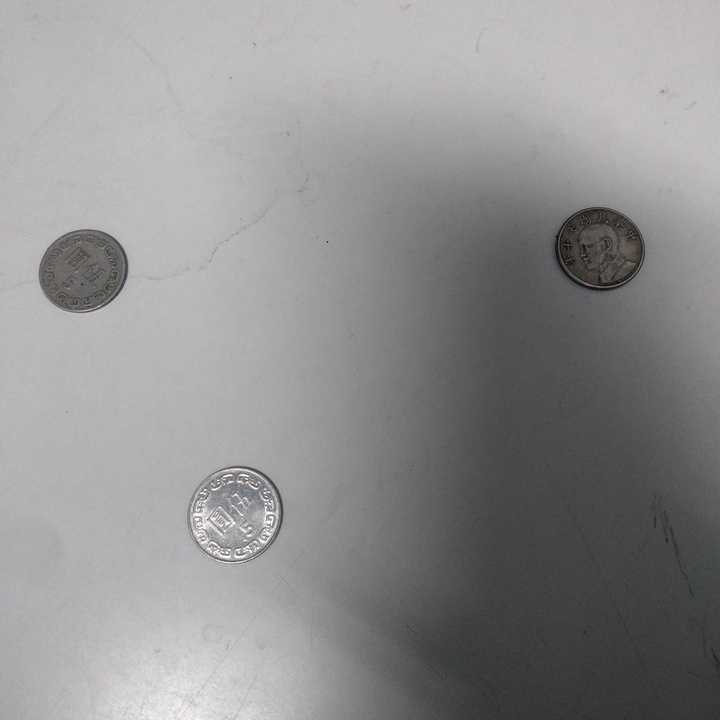5 dollar: (185, 464, 285, 567), (555, 204, 648, 294), (38, 230, 130, 318)
